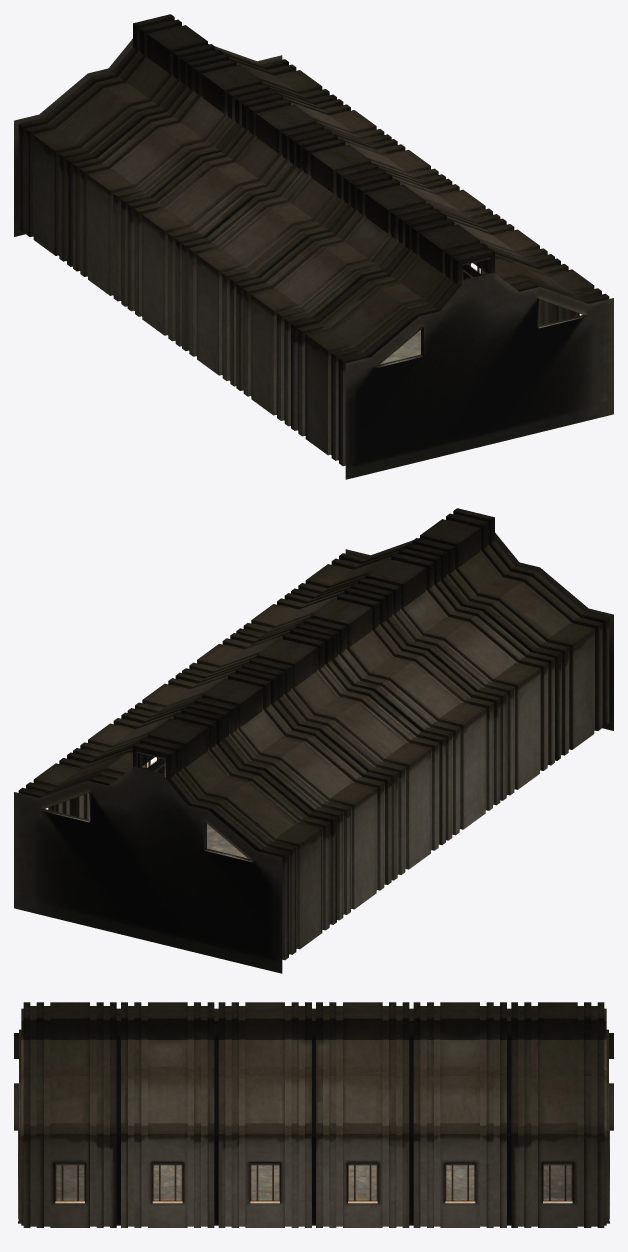
Rendered from abandoned_room.glb.
The picture shows the model from 3 angles, top to bottom: view 1: azimuth 30°, elevation 25°; view 2: azimuth 150°, elevation 25°; view 3: azimuth 270°, elevation 25°; orthographic projection. The views are drawn at different scales.
Visible parts, largest first — view 1: Object_2, Object_3; view 2: Object_2, Object_3; view 3: Object_2, Object_3.
Part boxes in pixels (<box>): Object_2: <box>14,14,609,466</box>; Object_3: <box>39,47,613,479</box>; Object_2: <box>14,508,609,973</box>; Object_3: <box>75,533,613,817</box>; Object_2: <box>14,1002,613,1227</box>; Object_3: <box>18,1029,609,1223</box>.
Size of the model in its own units: 8.64 by 5.71 by 18.41.
1 material, 1 textured.
